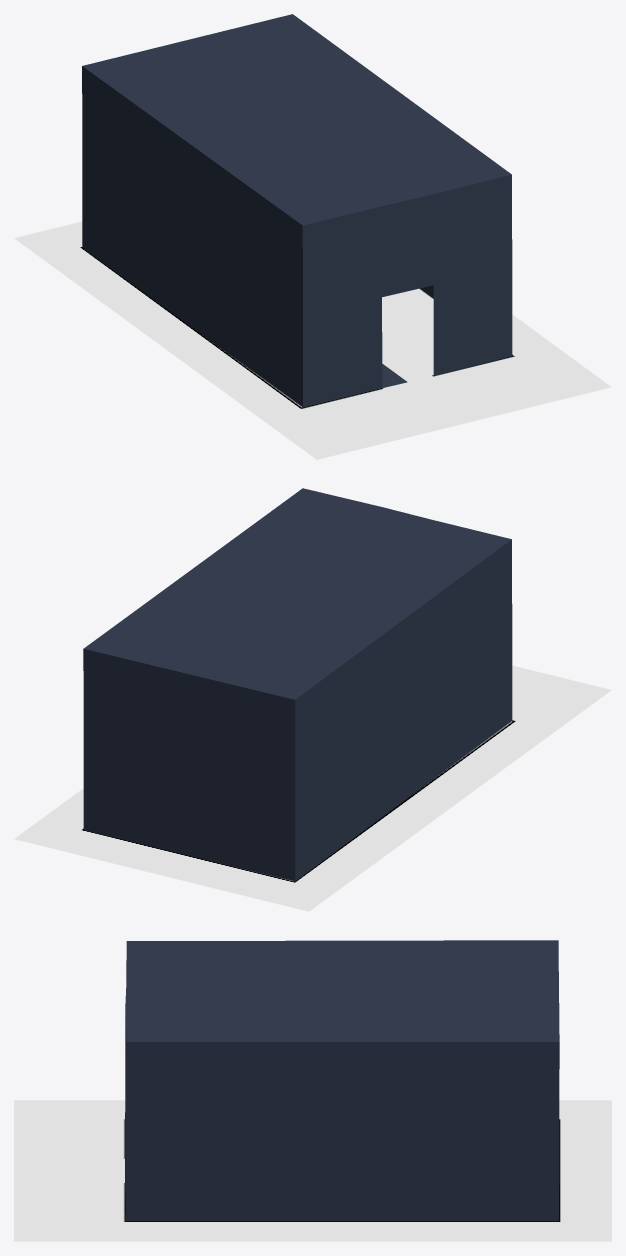
The model's file is SFTowerV1.glb.
3 renders of one model, top to bottom at view 1: azimuth 30°, elevation 25°; view 2: azimuth 150°, elevation 25°; view 3: azimuth 270°, elevation 25°, orthographic.
Parts seen in each view (by area): view 1: Cube, SFTower; view 2: Cube, SFTower; view 3: Cube, SFTower.
Boxes of the visible parts, x1,y1,x2,y2 form: Cube: (82,14,512,407); SFTower: (14,221,611,459); Cube: (83,488,512,881); SFTower: (14,665,611,911); Cube: (125,940,559,1220); SFTower: (14,1100,611,1241).
Bounding box in the file's own units: 5.11 × 3.01 × 9.09.
2 materials, 1 textured.
